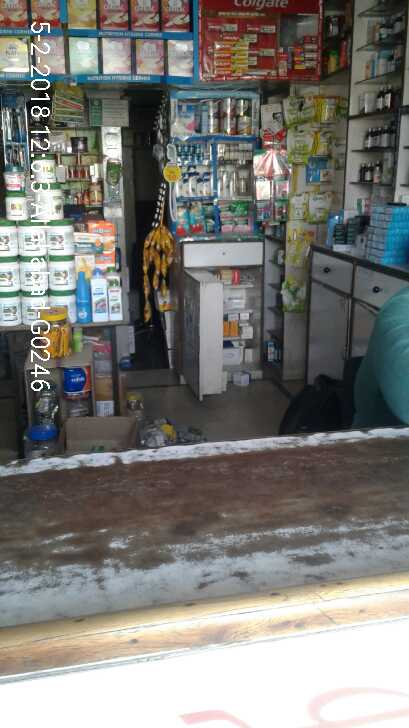vicks: (172, 138, 213, 169)
